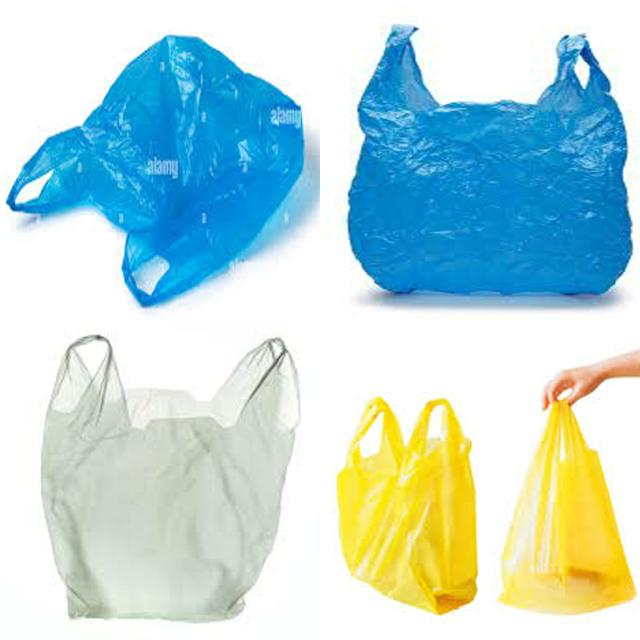Single-layer Plastic: (8, 36, 304, 305), (349, 26, 631, 294), (42, 335, 299, 620), (338, 398, 478, 614), (500, 400, 634, 614)
